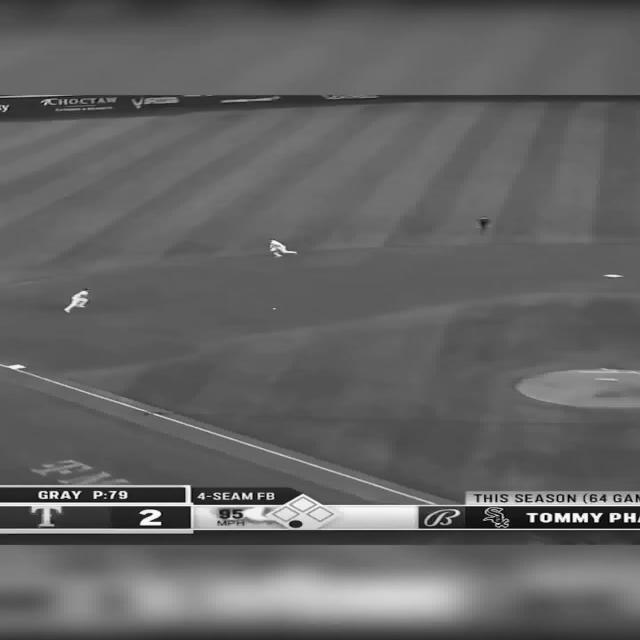baseball: (274, 308, 276, 310)
